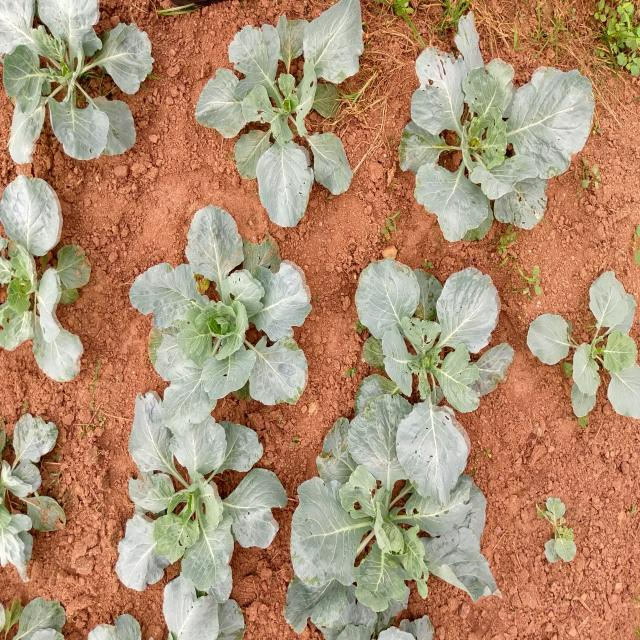Cabbage: (105, 356, 287, 640), (286, 432, 506, 640), (115, 206, 316, 406), (337, 234, 507, 466), (398, 46, 607, 234), (187, 22, 381, 223), (0, 162, 110, 398), (0, 0, 146, 174), (521, 267, 640, 464), (1, 405, 74, 583), (194, 22, 198, 50), (194, 14, 196, 48)
